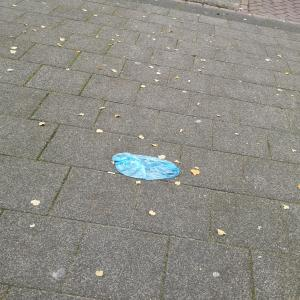Trash: (107, 149, 190, 188)
